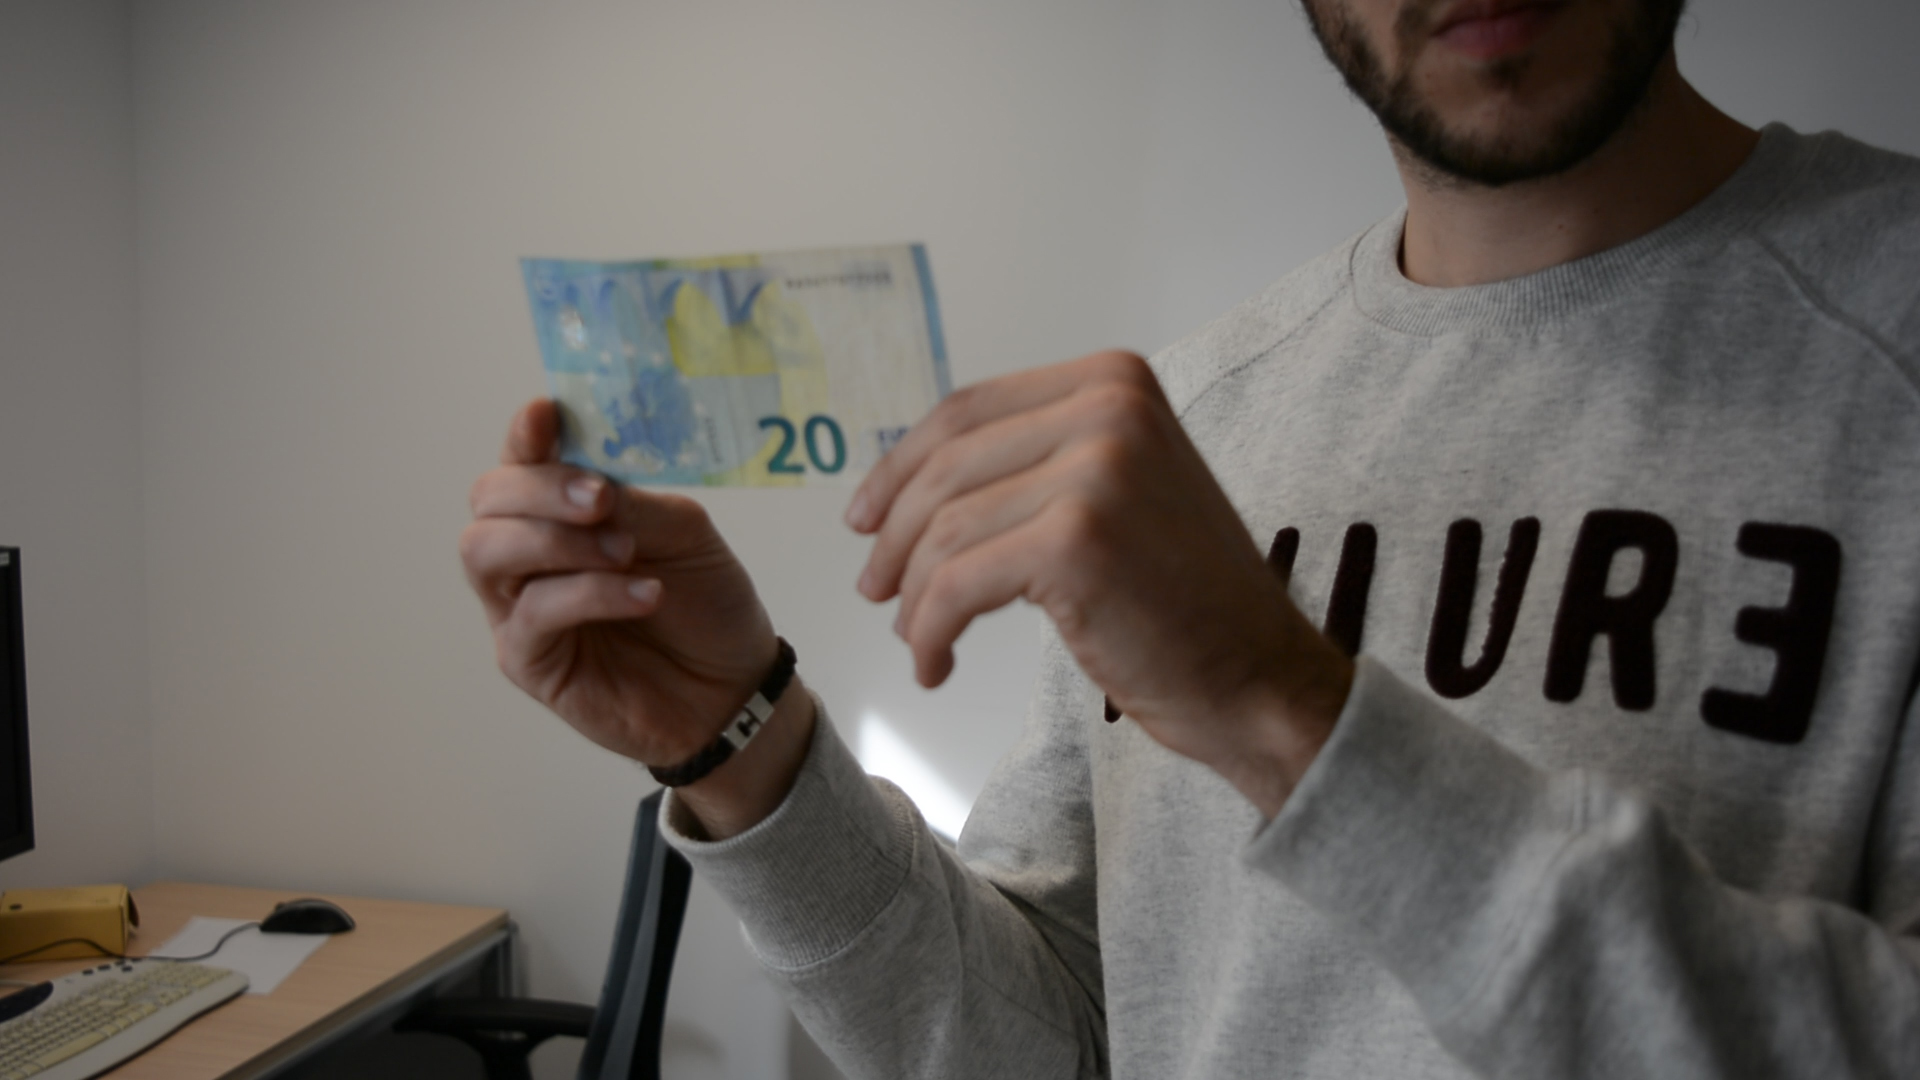billete: (516, 239, 957, 495)
